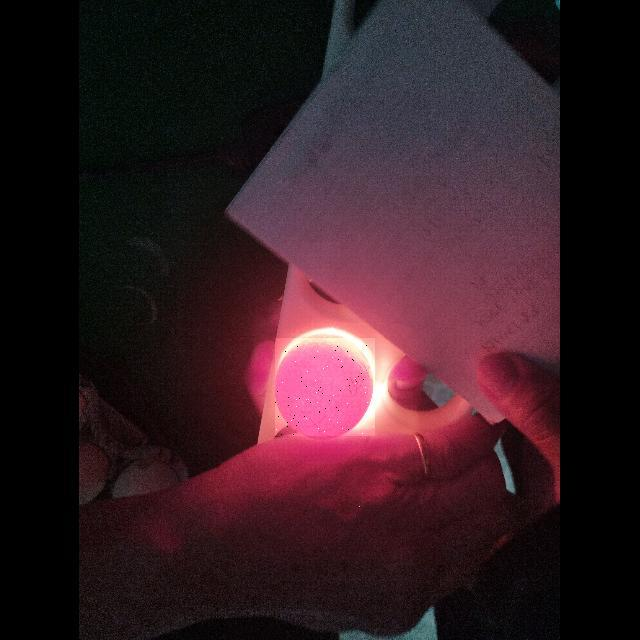Infertile: (275, 338, 375, 436)
